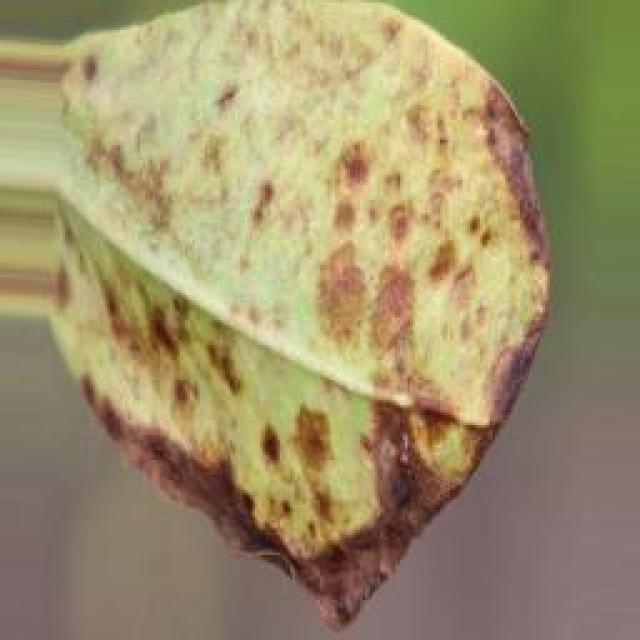Whitefly: (37, 0, 535, 585)
